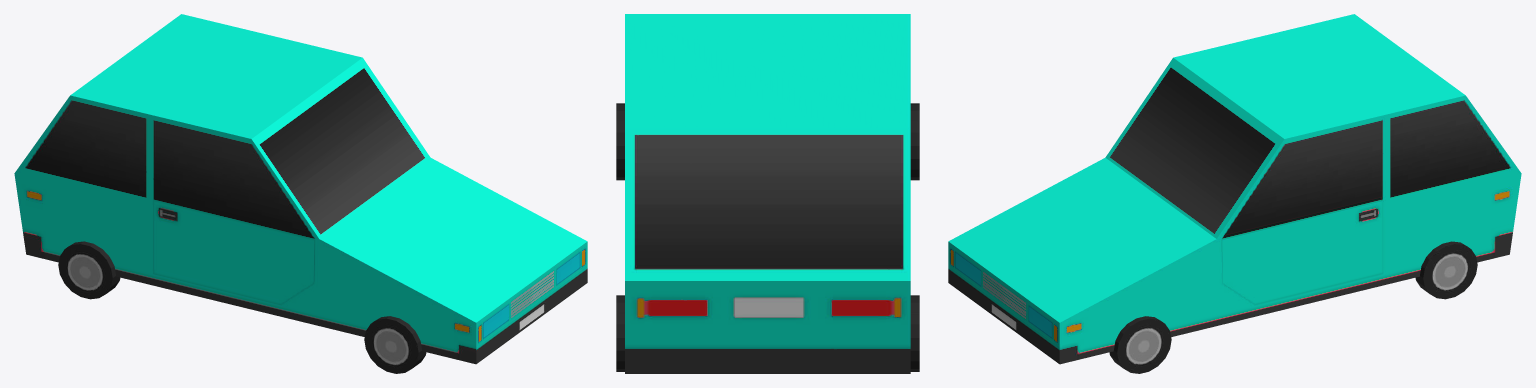
Rendered from 06-car.fbx.
3 views of the same model, side by side, from view 1: azimuth 30°, elevation 25°; view 2: azimuth 150°, elevation 25°; view 3: azimuth 270°, elevation 25° (orthographic). The views are drawn at different scales.
Parts seen in each view (by area): view 1: CAR_01; view 2: CAR_01; view 3: CAR_01.
Boxes of the visible parts, x1,y1,x2,y2 form: CAR_01: (14, 14, 587, 373); CAR_01: (616, 14, 919, 373); CAR_01: (948, 14, 1521, 373).
Size of the model in its own units: 67.63 by 31.87 by 84.37.
Materials: 1 (1 with a texture image).
